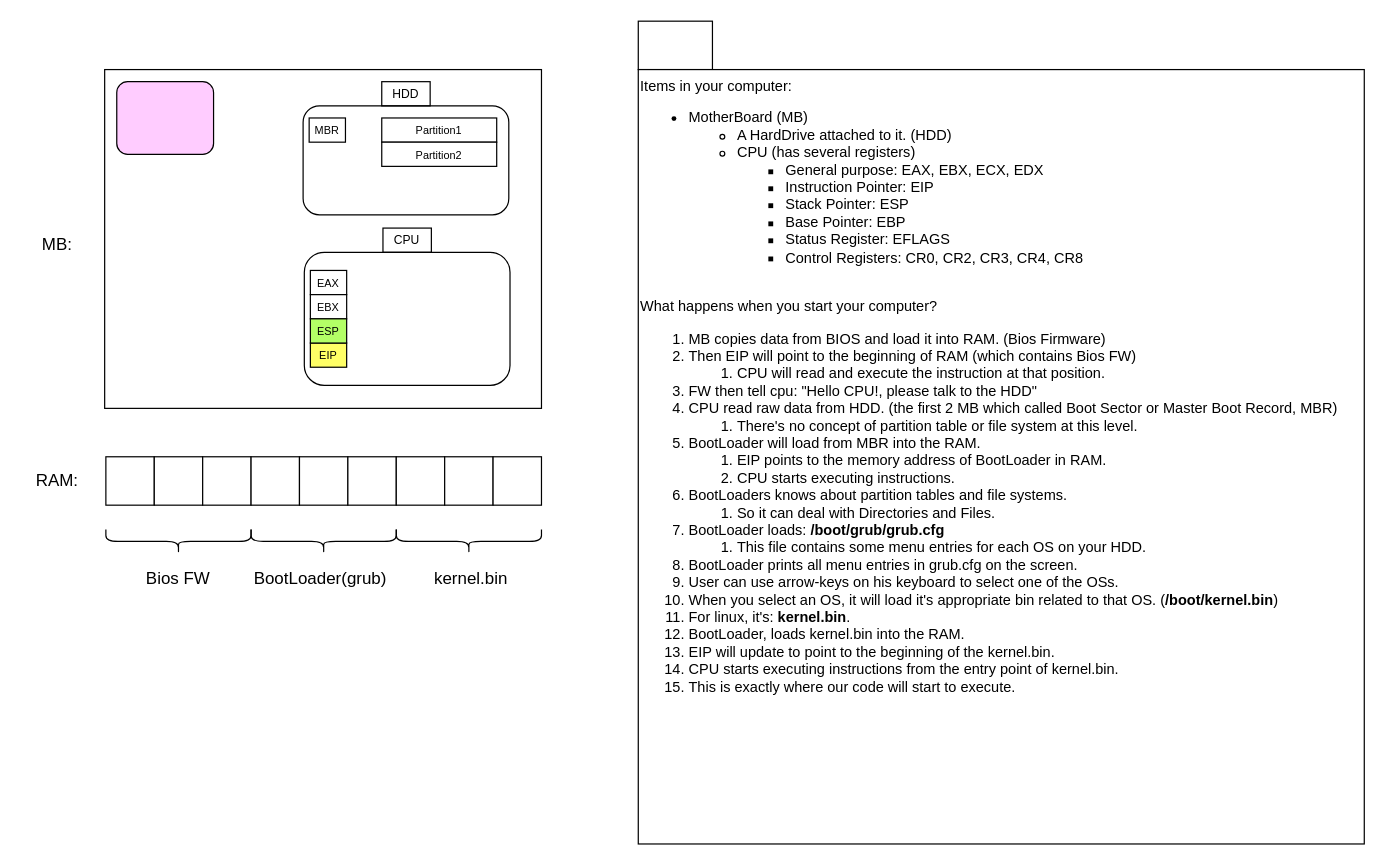
This 1385x865 diagram has some shape labels left out. The centre of each missing label's shape, as x and y in pixels:
BIOS: the point at 165,117
NOTES: the point at 674,45
